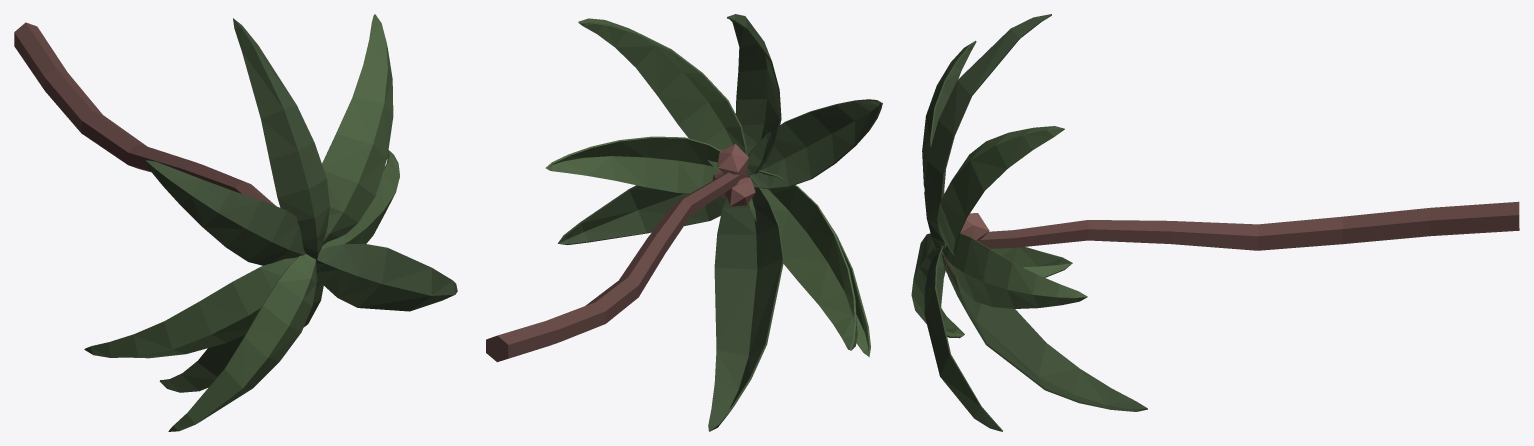
Rendered from tree-palm-4-45-ft.obj.
3 views of the same model, side by side, from view 1: azimuth 30°, elevation 25°; view 2: azimuth 150°, elevation 25°; view 3: azimuth 270°, elevation 25° (orthographic). The views are drawn at different scales.
Parts seen in each view (by area): view 1: tree-palm-4-45-ft; view 2: tree-palm-4-45-ft; view 3: tree-palm-4-45-ft.
Boxes of the visible parts, x1,y1,x2,y2 form: tree-palm-4-45-ft: (14, 14, 457, 431); tree-palm-4-45-ft: (486, 14, 882, 431); tree-palm-4-45-ft: (911, 14, 1519, 431).
Bounding box in the file's own units: 364 × 403 × 540.
